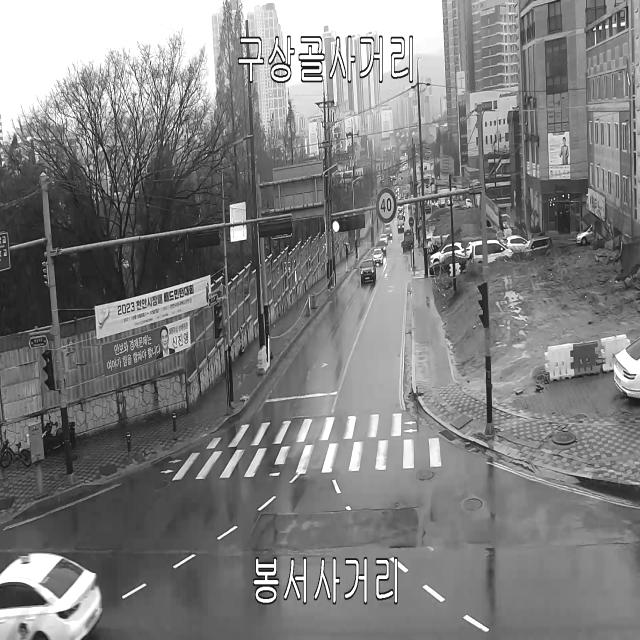Car: (0, 551, 104, 640), (613, 334, 640, 398), (471, 241, 513, 264), (430, 242, 465, 265), (429, 255, 467, 276), (524, 237, 552, 258), (360, 258, 376, 283), (576, 224, 593, 246), (372, 248, 383, 264), (376, 240, 386, 256), (460, 198, 472, 209), (379, 234, 388, 245), (384, 229, 393, 240), (466, 242, 472, 258), (385, 223, 391, 230)
Truck: (401, 229, 414, 252)
